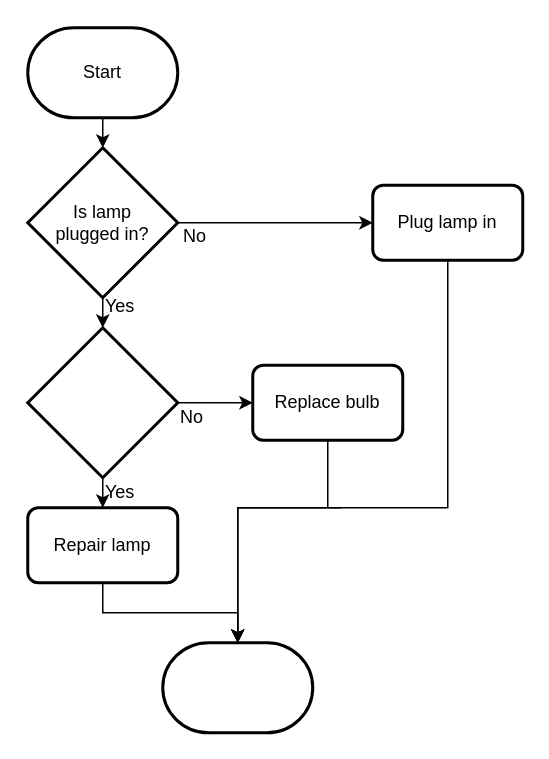
Some shapes in this 549 by 759 pixel diagram are drawn without their labels. Each missing label, with the centre of its shape:
"Is light bulb burnt out?" belongs at [102,402].
"Stop" belongs at [237,687].
